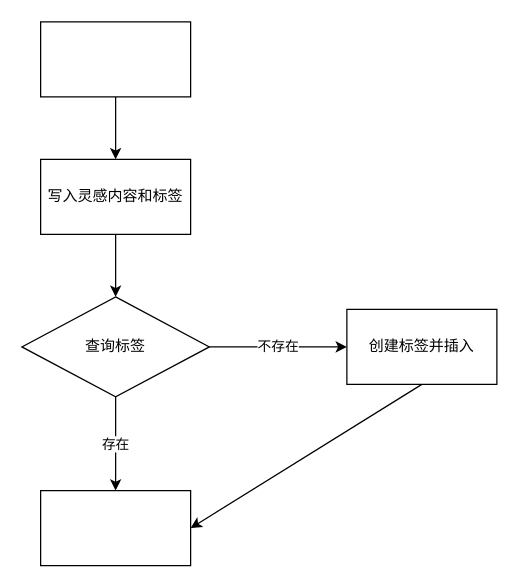
This 519x588 diagram has some shape labels left out. Here are the shapes that lost their labels. From the top down, the centre of each, then its label:
At (115,59): "创建灵感".
At (115,527): "插入灵感".
